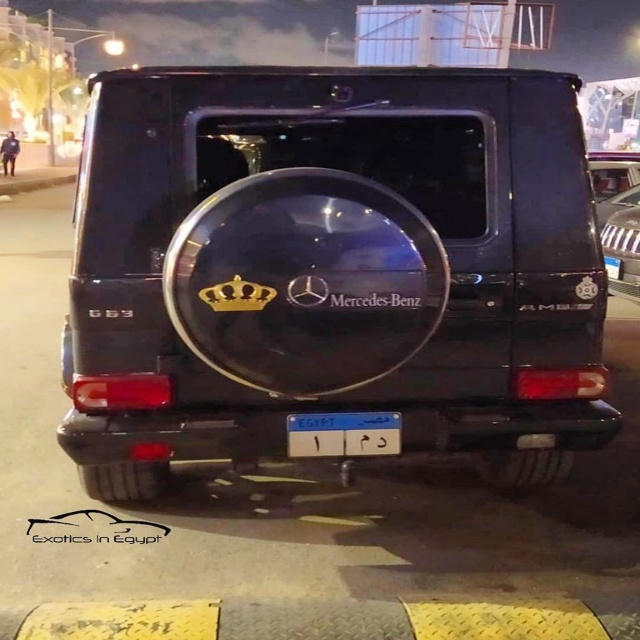License Plate: (282, 410, 407, 459)
